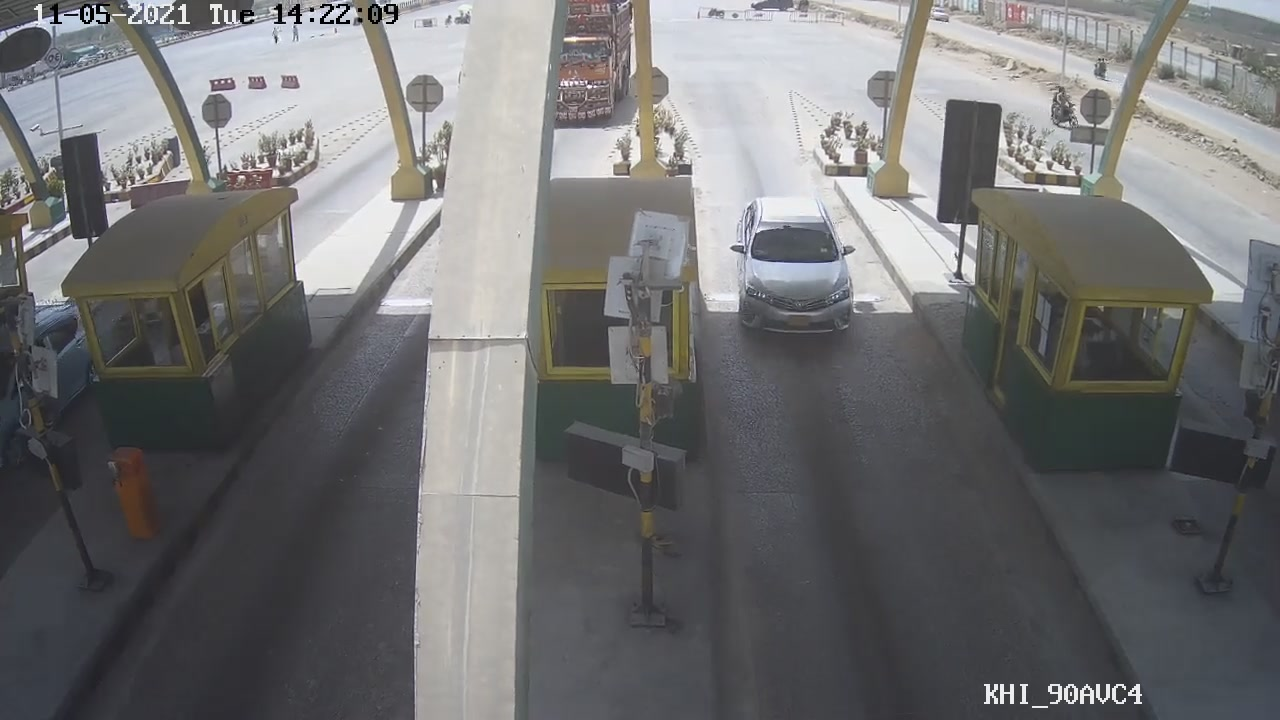F1: (726, 197, 859, 342)
